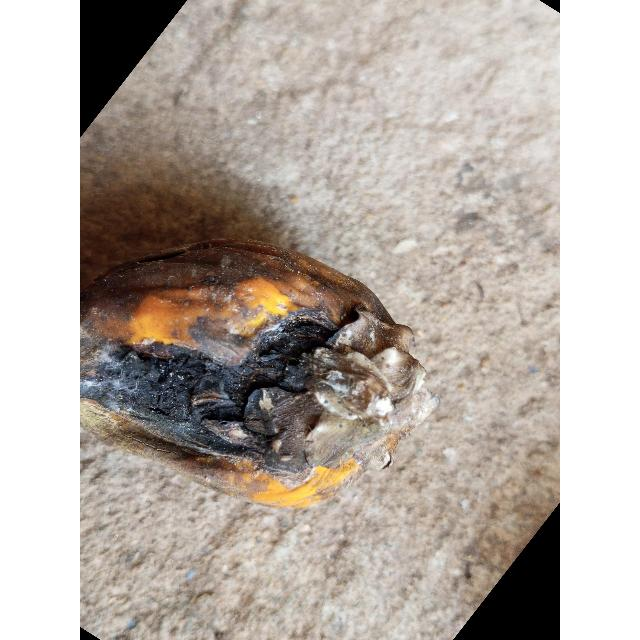damaged: (80, 241, 419, 493)
